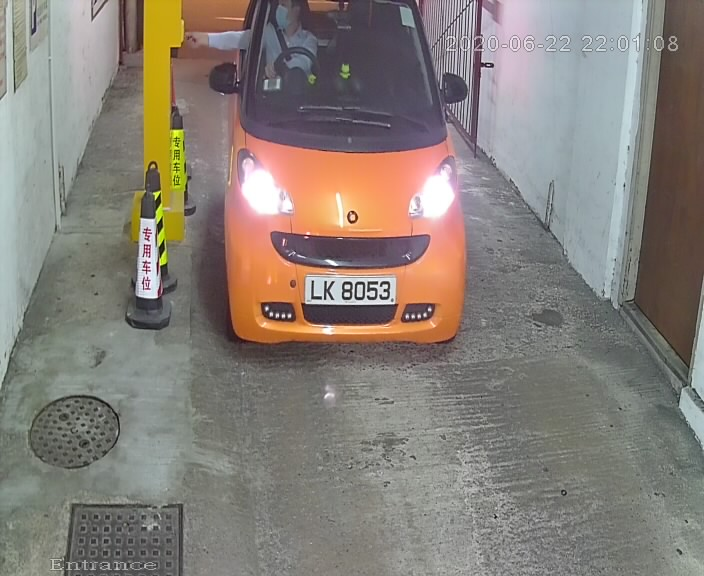privatecar: (213, 1, 482, 368)
